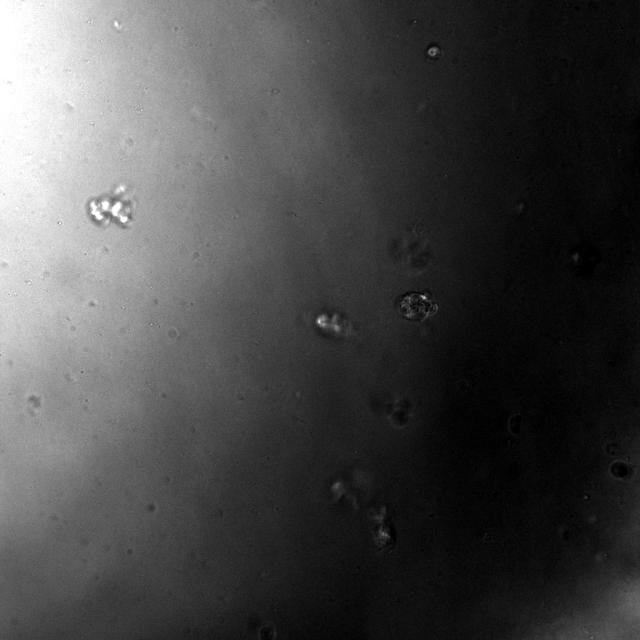organoid: (87, 185, 135, 228), (396, 290, 438, 322), (314, 307, 352, 339), (368, 504, 392, 550), (391, 398, 413, 428), (425, 43, 442, 60)
